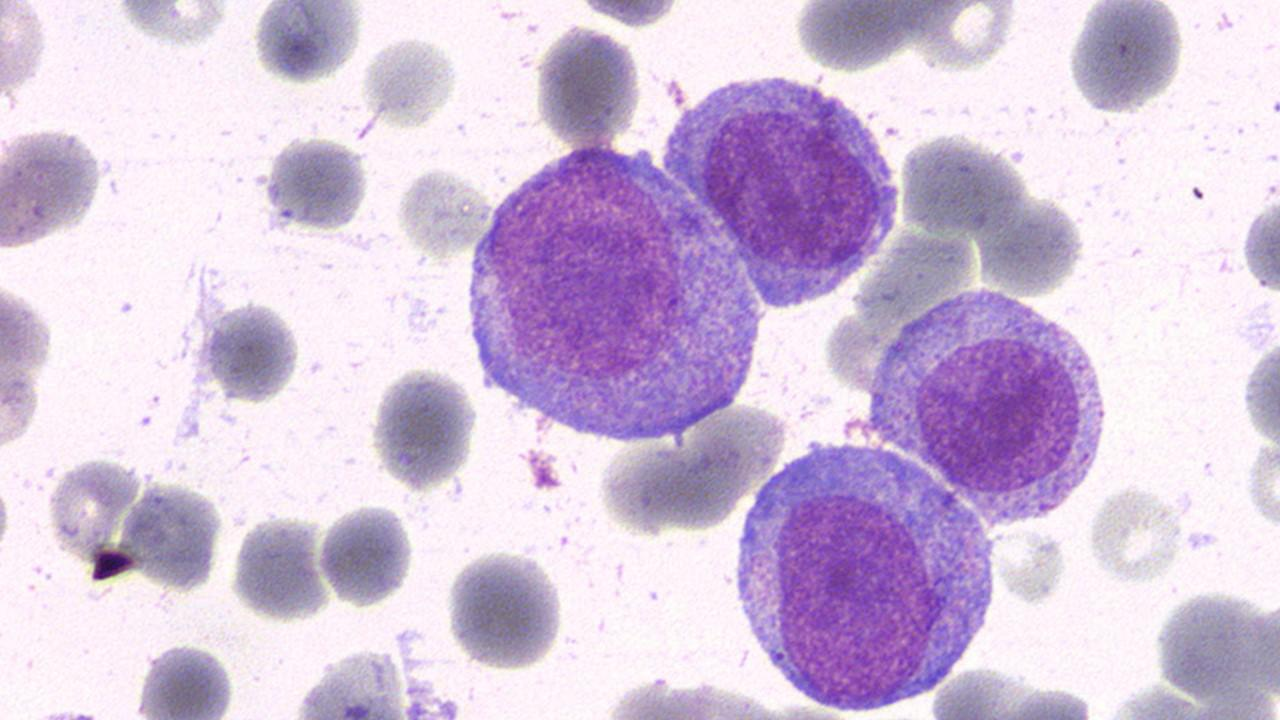Platelets: (360, 32, 458, 128), (131, 636, 240, 718), (249, 3, 354, 88), (1183, 528, 1221, 554), (1269, 95, 1279, 118)
RBC: (440, 544, 564, 672), (368, 363, 479, 492), (1063, 0, 1183, 118), (533, 22, 642, 150), (119, 483, 225, 594), (0, 268, 59, 464), (227, 512, 330, 624), (315, 499, 415, 609), (1086, 480, 1182, 588), (396, 162, 494, 260), (1240, 320, 1280, 463), (1243, 440, 1279, 533)
WBC: (462, 136, 774, 456), (728, 434, 1004, 710), (856, 267, 1122, 531), (660, 62, 908, 315), (0, 0, 118, 268), (442, 543, 570, 674), (1149, 588, 1277, 712), (284, 635, 473, 718), (370, 358, 482, 492), (1064, 0, 1188, 115), (2, 124, 110, 255), (228, 510, 329, 626), (123, 480, 227, 590), (261, 132, 372, 235), (316, 499, 414, 611), (203, 297, 304, 405), (1, 268, 57, 462), (249, 1, 365, 87), (360, 33, 460, 126), (1239, 161, 1280, 308), (1, 0, 51, 114), (1240, 318, 1280, 460)
